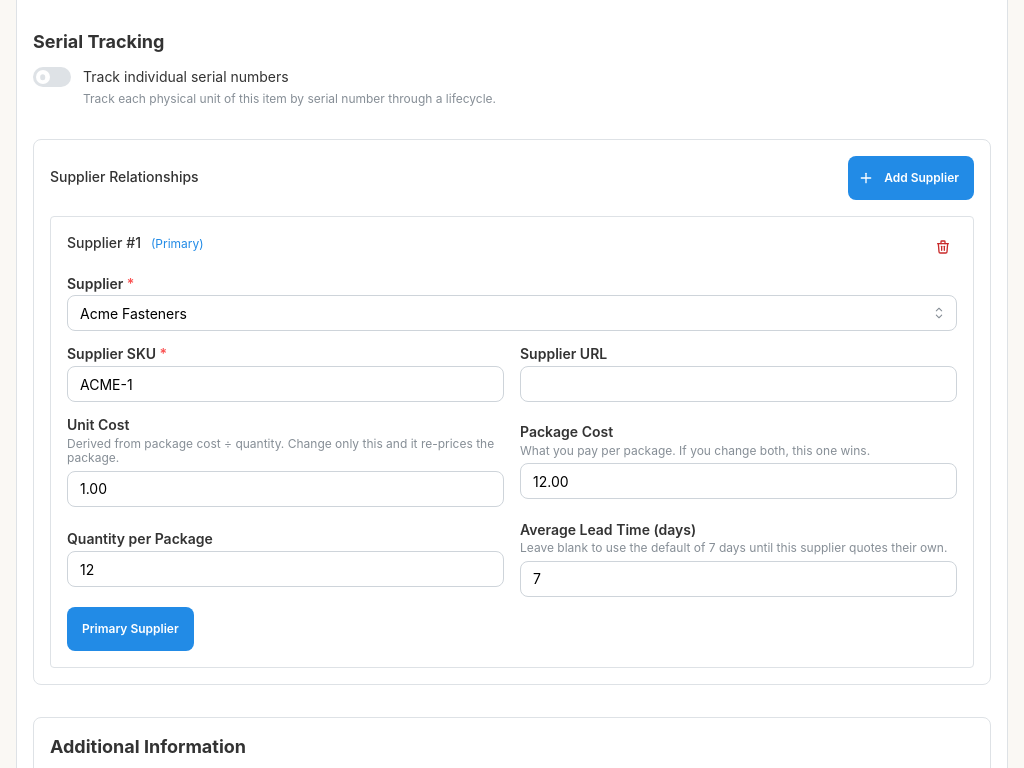
Test: InventoryItemFormPage — supplier relationships › turns a server unique-together rejection into a reason the operator can act on
This screenshot has width=1024, height=768.
(page scrolled)
Replace the text in the field labelled "Supplier SKU *" with "ACME-2" at (286, 384), box [67, 366, 504, 402]
(page scrolled)
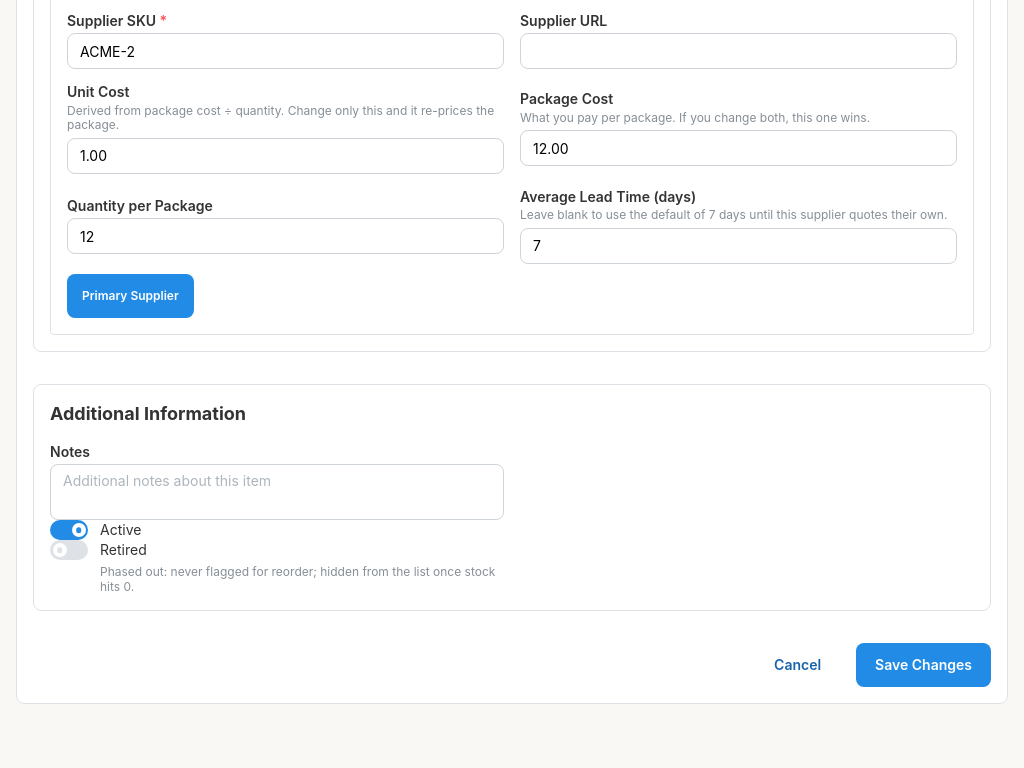
Click the button "Save Changes" at (924, 665), box [856, 643, 991, 687]
(page scrolled)
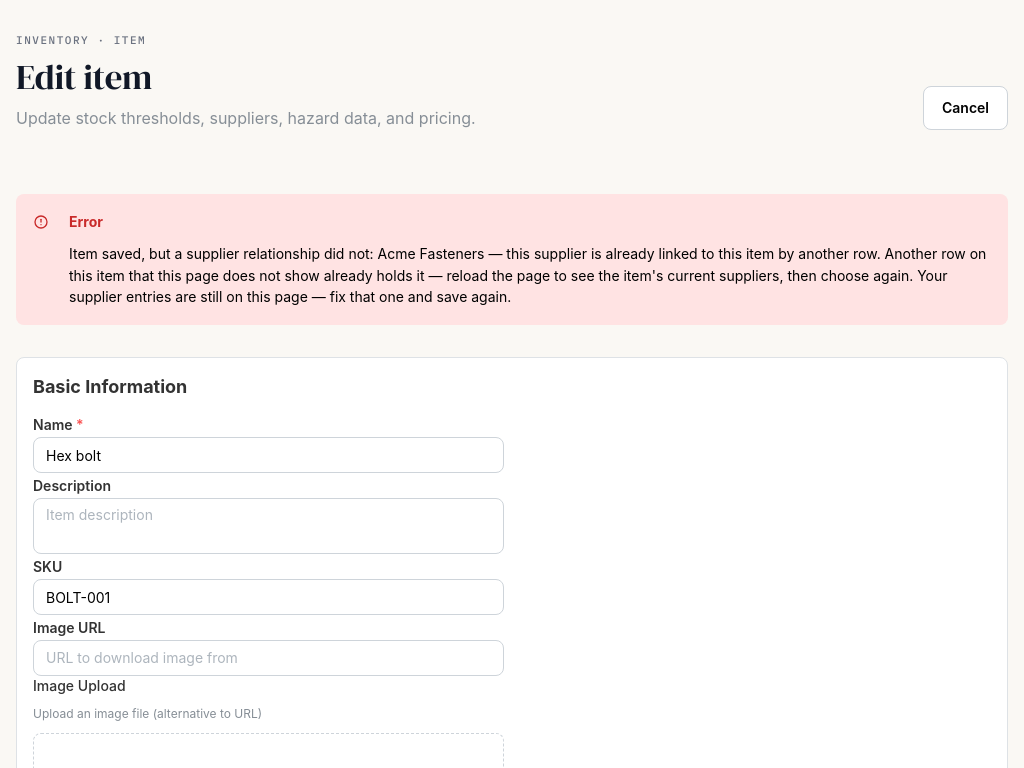
Expected: the text "Acme Fasteners — this supplier is already linked" shows "Another row on this item that this page does not show already holds it — reload the page to see the item's current suppliers, then choose again.", [69, 245, 986, 306]
